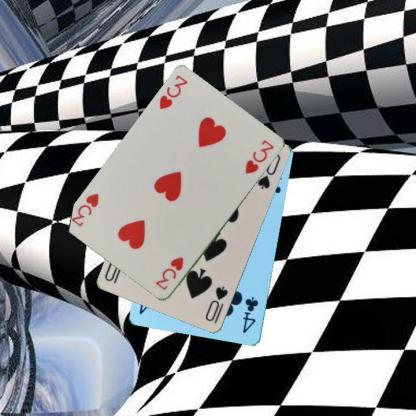10s: (203, 284, 229, 325)
3h: (152, 254, 185, 292), (157, 73, 189, 111)
4c: (240, 294, 260, 335)
